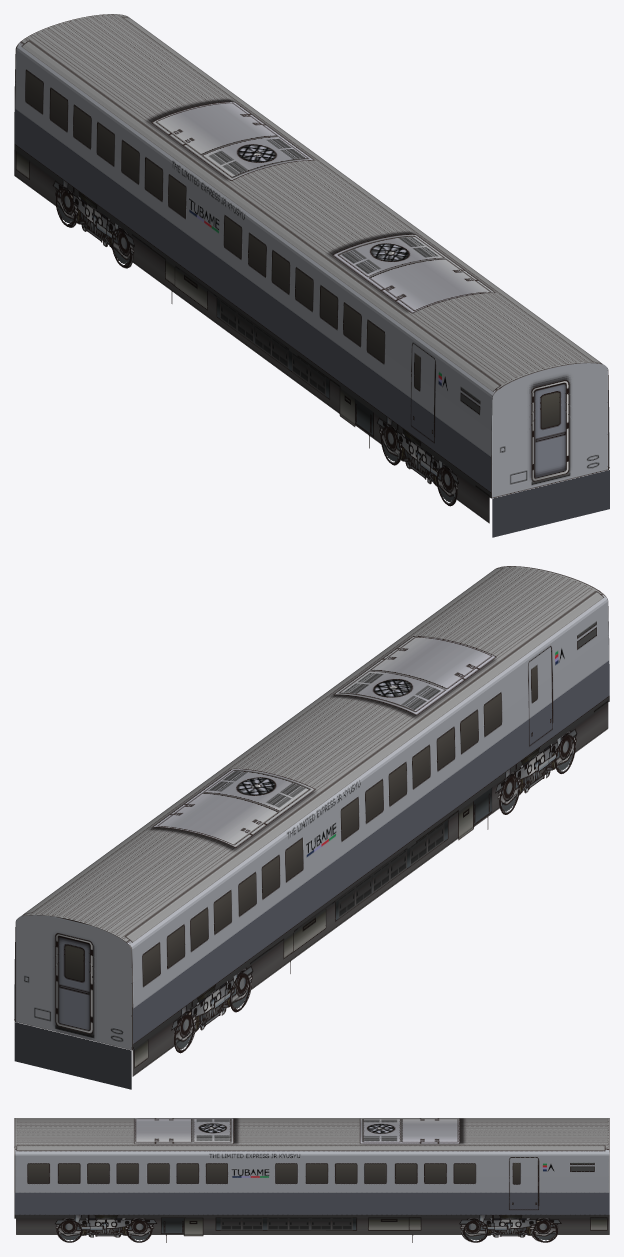
File: car2.glb
3 renders of one model, top to bottom at view 1: azimuth 30°, elevation 25°; view 2: azimuth 150°, elevation 25°; view 3: azimuth 270°, elevation 25°, orthographic. The views are drawn at different scales.
Parts seen in each view (by area): view 1: jr787-car2; view 2: jr787-car2; view 3: jr787-car2.
Boxes of the visible parts, x1,y1,x2,y2 form: jr787-car2: (14, 14, 609, 537); jr787-car2: (14, 566, 609, 1089); jr787-car2: (14, 1118, 609, 1242).
Bounding box in the file's own units: 2.94 × 3.67 × 20.53.
Materials: 8 (7 with a texture image).
